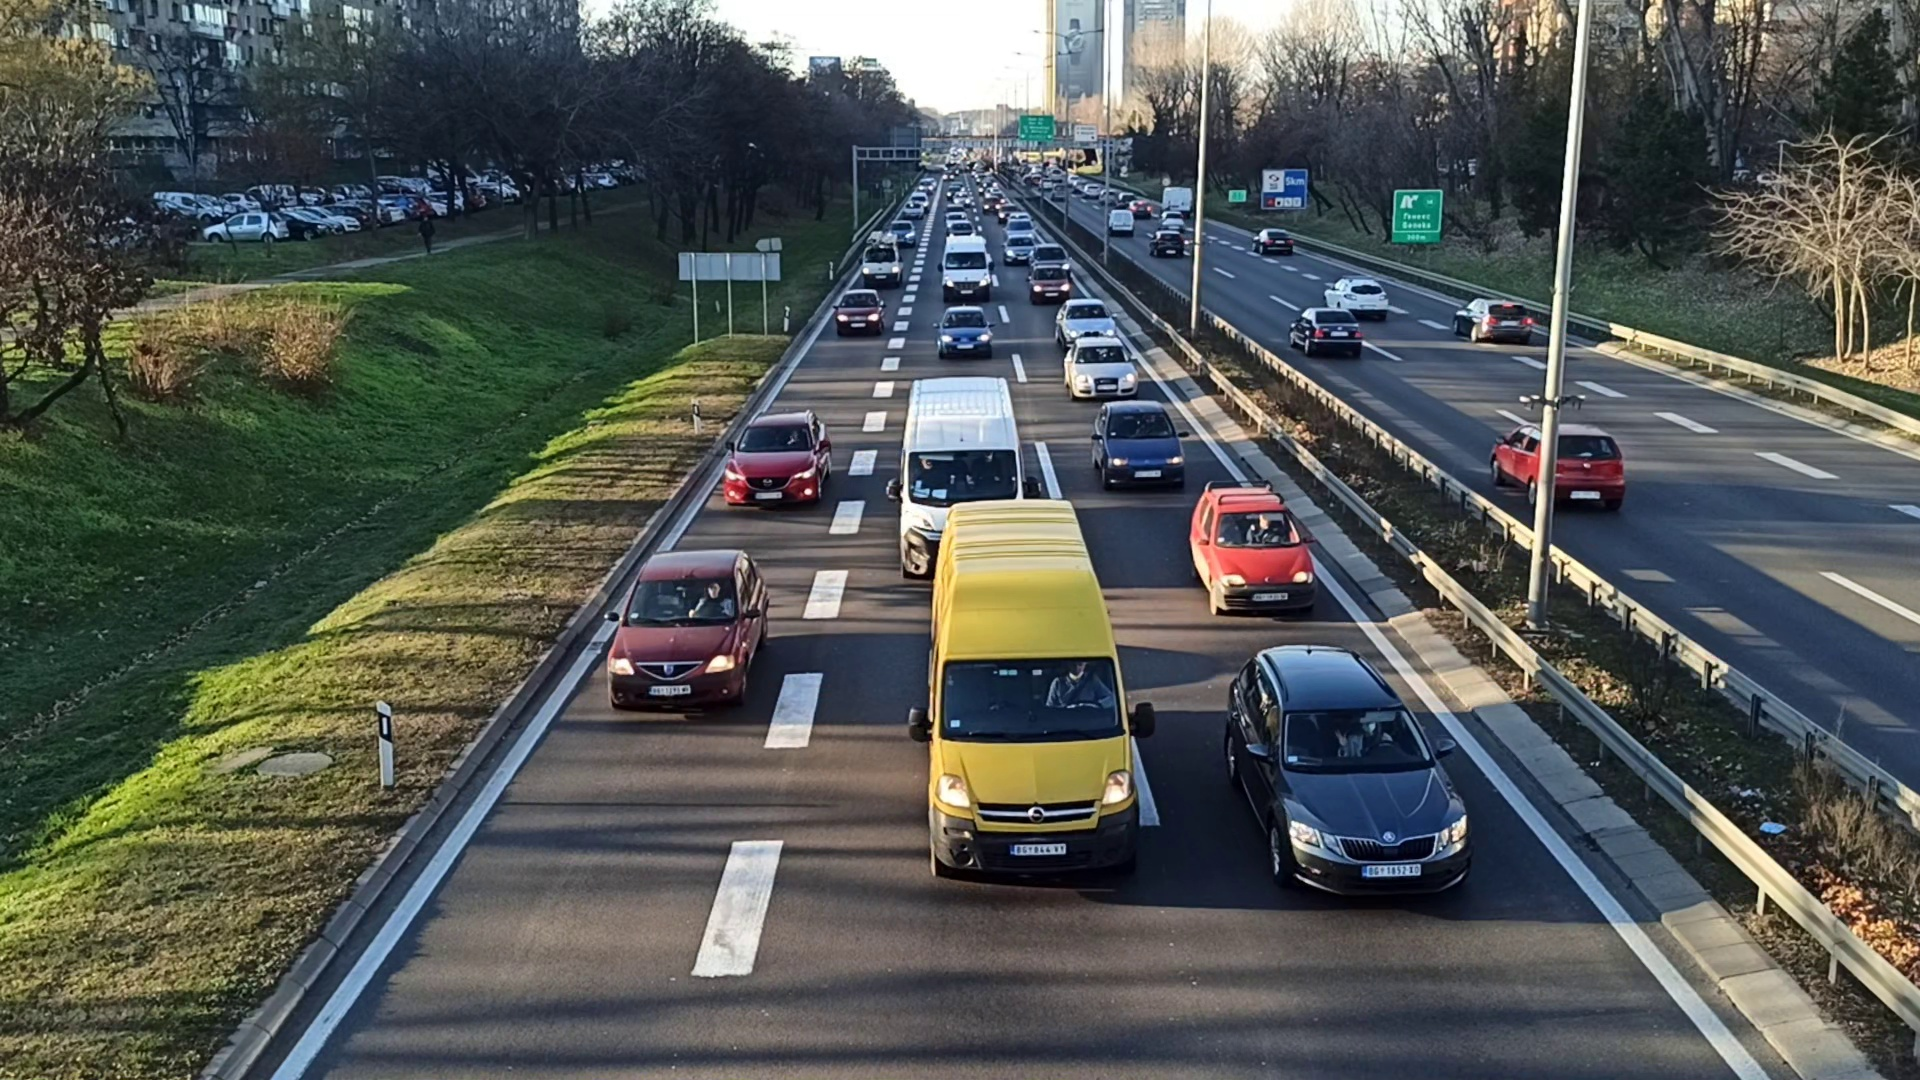car: (1220, 640, 1472, 905), (611, 543, 766, 725), (1187, 481, 1315, 615), (1490, 419, 1626, 520), (1095, 400, 1185, 487), (1062, 339, 1134, 398), (1453, 295, 1534, 342), (1288, 305, 1362, 352), (1324, 274, 1389, 316), (1055, 301, 1116, 344), (938, 307, 990, 355), (837, 291, 882, 336), (1029, 265, 1068, 303)
van: (928, 502, 1142, 884), (899, 375, 1027, 574), (942, 233, 989, 301), (862, 237, 905, 284)
